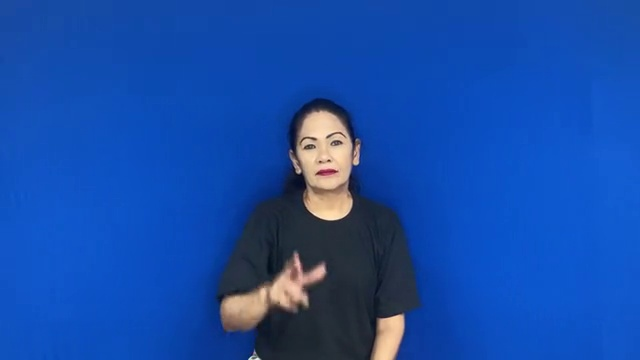chicken: (252, 242, 335, 325)
